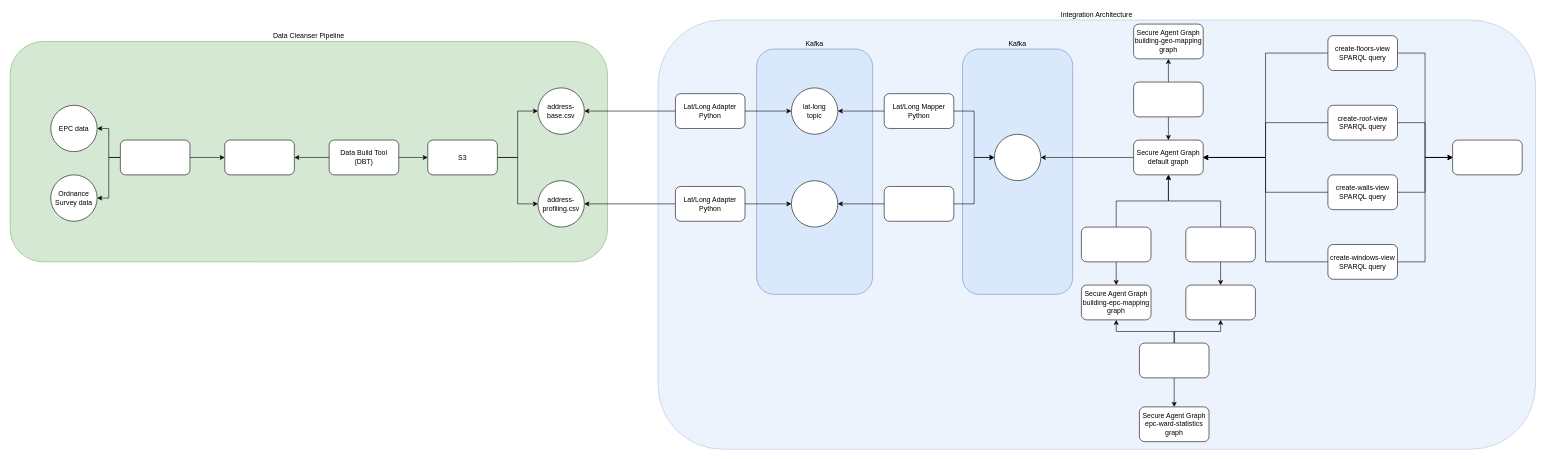
The diagram is 1546 pixels wide and 459 high, and some of its shapes have lost their labels. The centre of each missing label's shape, as x and y in pixels:
"Address Profiling Mapper Python" goes at point 919,203.
"address-profiling topic" goes at point 814,203.
"Airbyte" goes at point 155,157.
"Amazon Relational Database Service (RDS)" goes at point 259,157.
"create-epc-view SPARQL query" goes at point 1116,244.
"create-geo-view SPARQL query" goes at point 1168,99.
"create-stats-view SPARQL query" goes at point 1174,360.
"create-ward-view SPARQL query" goes at point 1220,244.
"knowledge topic" goes at point 1017,157.
"Secure Agent Graph building-ward-mapping graph" goes at point 1220,302.
"Secure Agent Graph detailed-building-gep-mapping graph" goes at point 1487,157.
